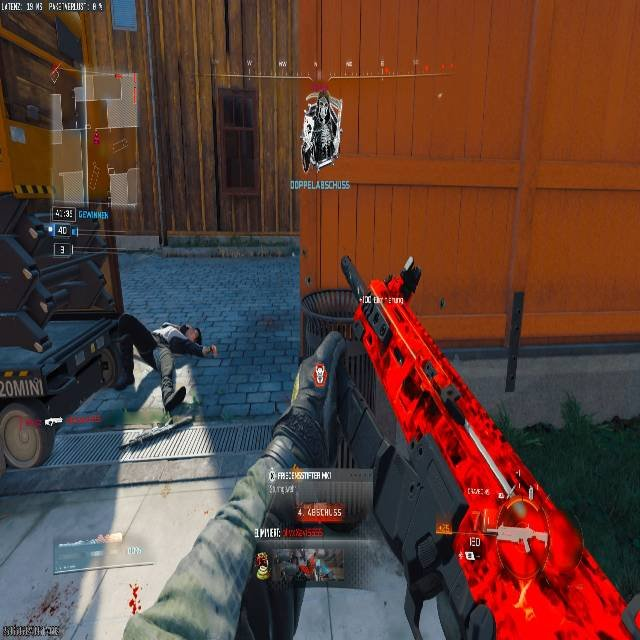player: (301, 89, 341, 172)
